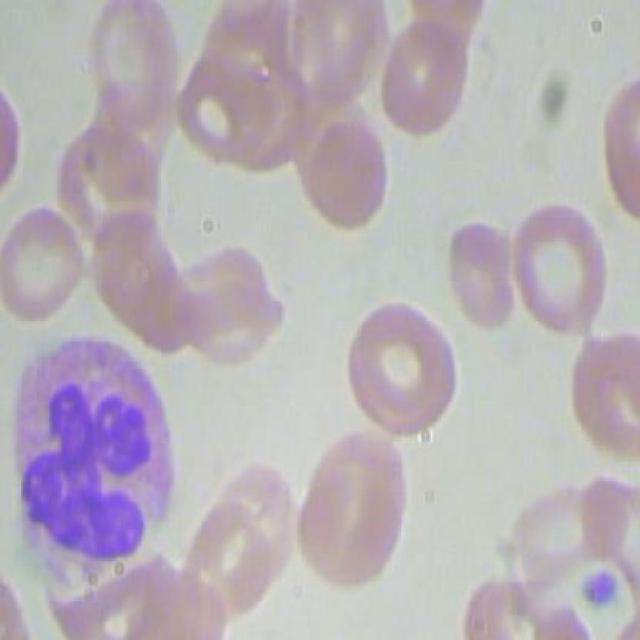Platelets: (579, 564, 623, 608)
RBC: (287, 453, 407, 593), (345, 292, 457, 438), (508, 196, 621, 339), (52, 117, 163, 241), (82, 2, 182, 132), (174, 281, 288, 377), (444, 194, 514, 344), (303, 116, 389, 238), (380, 16, 466, 138), (562, 335, 640, 467), (2, 205, 86, 327), (311, 430, 409, 525)
WBC: (2, 328, 187, 587)
